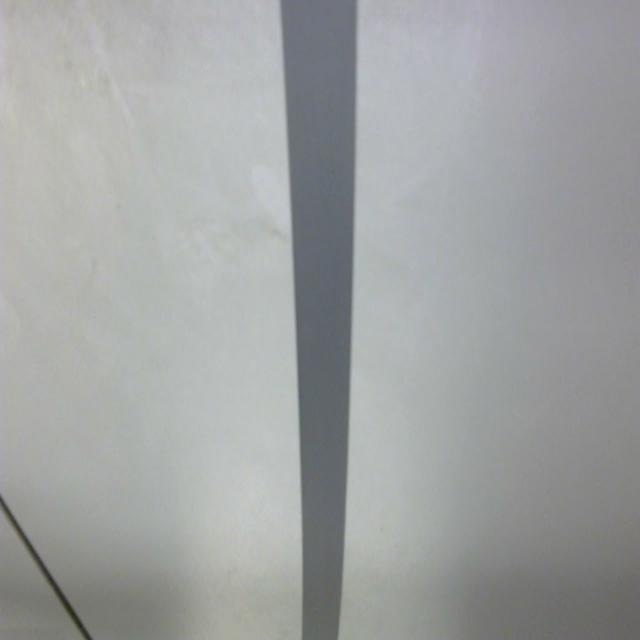tape: (270, 0, 374, 640)
